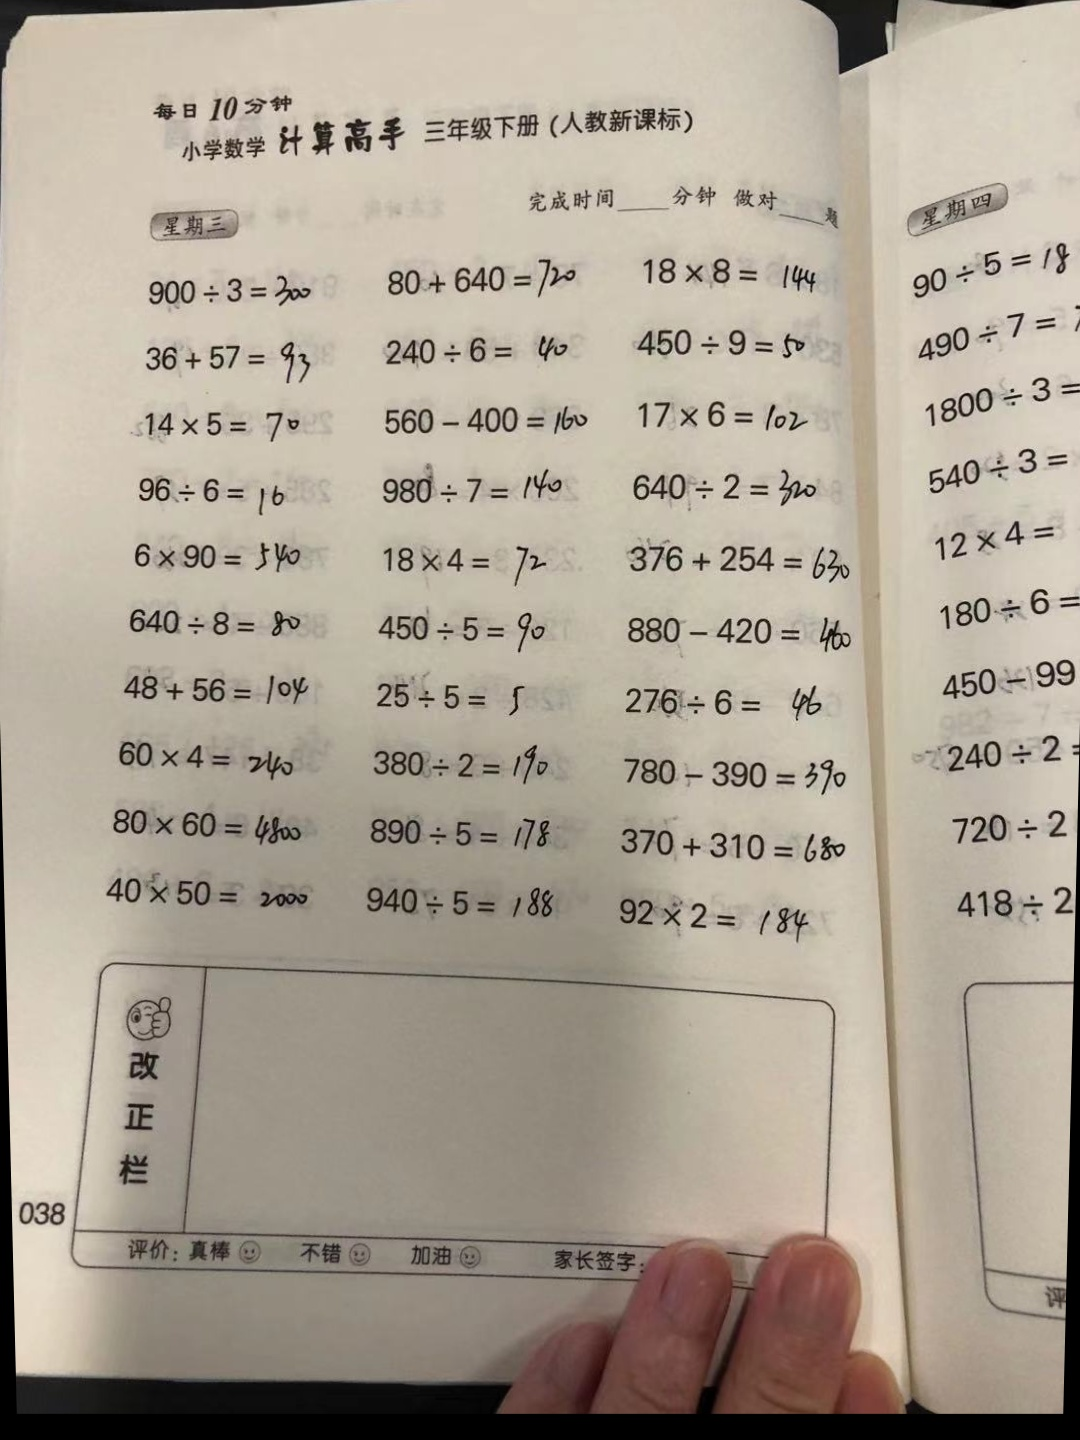equation: (606, 886, 833, 949), (611, 815, 860, 873), (613, 604, 875, 659), (364, 605, 574, 670), (380, 244, 592, 303), (625, 535, 878, 584), (609, 752, 857, 801), (628, 245, 835, 302), (101, 801, 321, 852), (613, 676, 842, 725), (118, 664, 331, 715), (364, 804, 569, 856), (102, 874, 335, 920), (355, 532, 569, 581), (101, 737, 304, 788), (379, 328, 585, 378), (141, 340, 354, 388), (627, 463, 832, 511), (358, 876, 567, 923), (115, 607, 337, 650), (376, 404, 608, 444), (628, 320, 818, 369), (372, 460, 575, 506), (628, 389, 820, 437), (368, 675, 563, 721), (128, 403, 341, 444), (126, 266, 334, 310), (120, 534, 321, 577), (373, 742, 565, 786), (123, 476, 296, 514)
